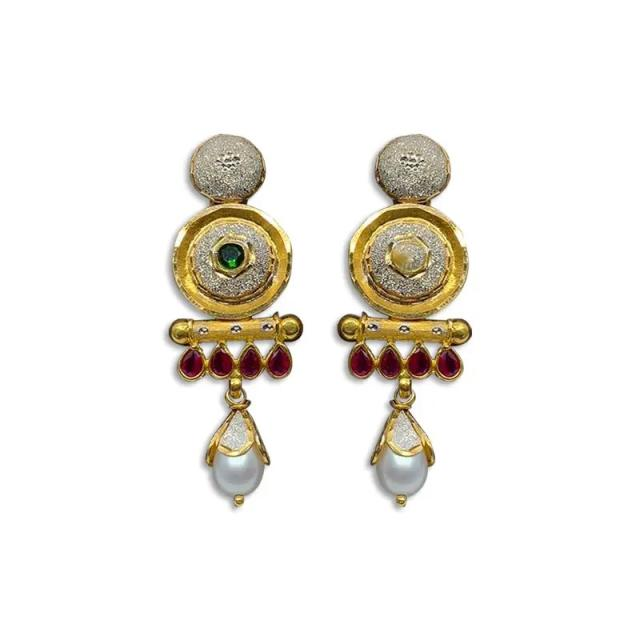missing gem: (393, 241, 425, 270)
